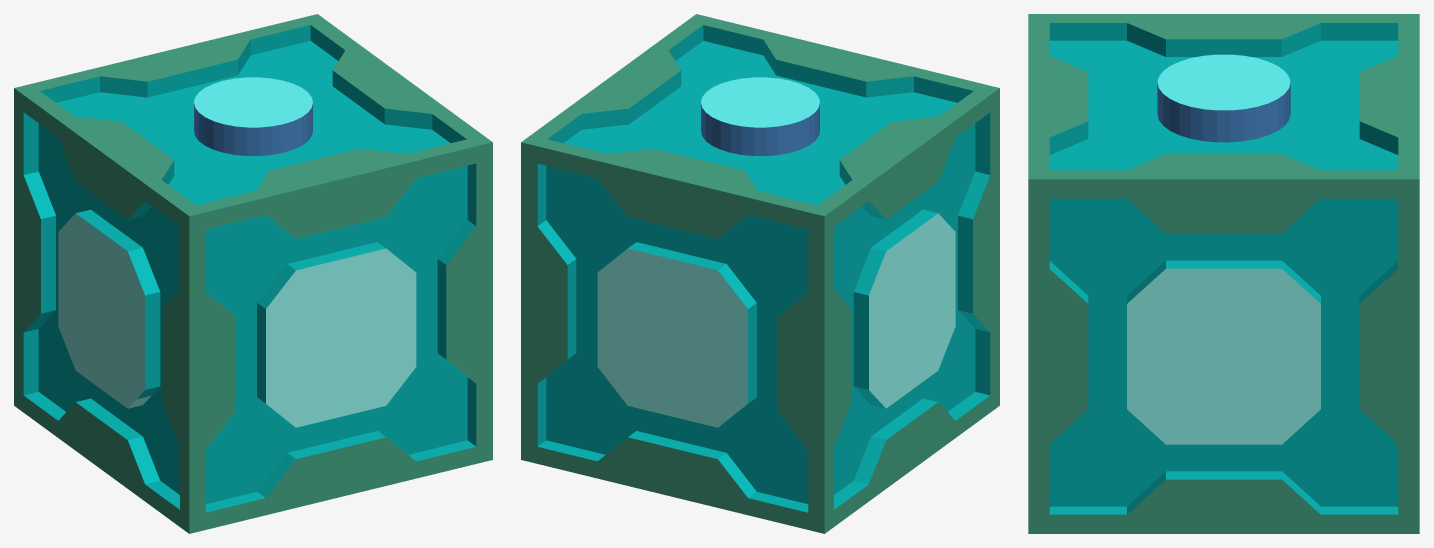
The model's file is Mbox.glb.
3 renders of one model, left to right at view 1: azimuth 30°, elevation 25°; view 2: azimuth 150°, elevation 25°; view 3: azimuth 270°, elevation 25°, orthographic. The views are drawn at different scales.
Visible parts, largest first — view 1: Cube; view 2: Cube; view 3: Cube.
Part boxes in pixels (x1,y1,x2,y2): Cube: (14,14,492,533); Cube: (521,14,999,533); Cube: (1028,14,1419,533).
Bounding box in the file's own units: 1 × 1.04 × 1.
